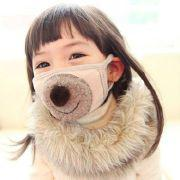OK: (30, 42, 109, 121)
